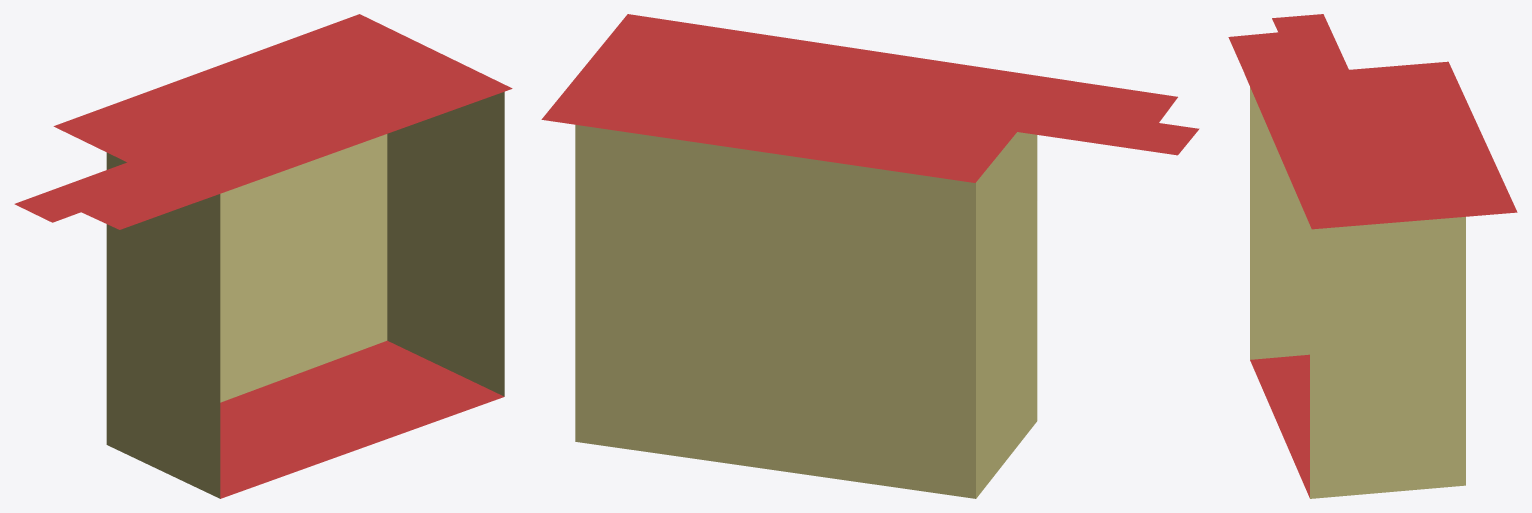
3 renders of one model, left to right at view 1: azimuth 30°, elevation 25°; view 2: azimuth 150°, elevation 25°; view 3: azimuth 270°, elevation 25°, orthographic. The views are drawn at different scales.
Size of the model in its own units: 10.75 by 6.1 by 6.36.
